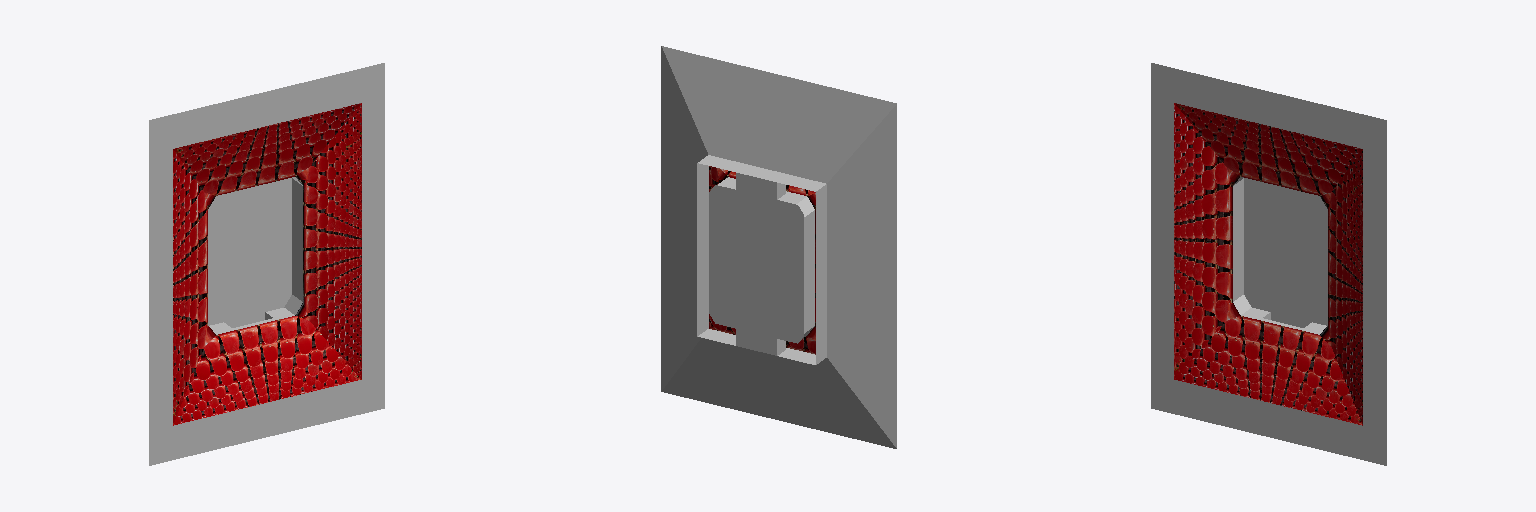
3 views of the same model, side by side, from view 1: azimuth 30°, elevation 25°; view 2: azimuth 150°, elevation 25°; view 3: azimuth 330°, elevation 25° (orthographic).
Parts seen in each view (by area): view 1: Plane; view 2: Plane; view 3: Plane.
Part boxes in pixels (x1,y1,x2,y2): Plane: (149, 63, 384, 465); Plane: (661, 46, 896, 448); Plane: (1151, 63, 1386, 465).
Size of the model in its own units: 229 by 321 by 38.1.
Materials: 6 (1 with a texture image).